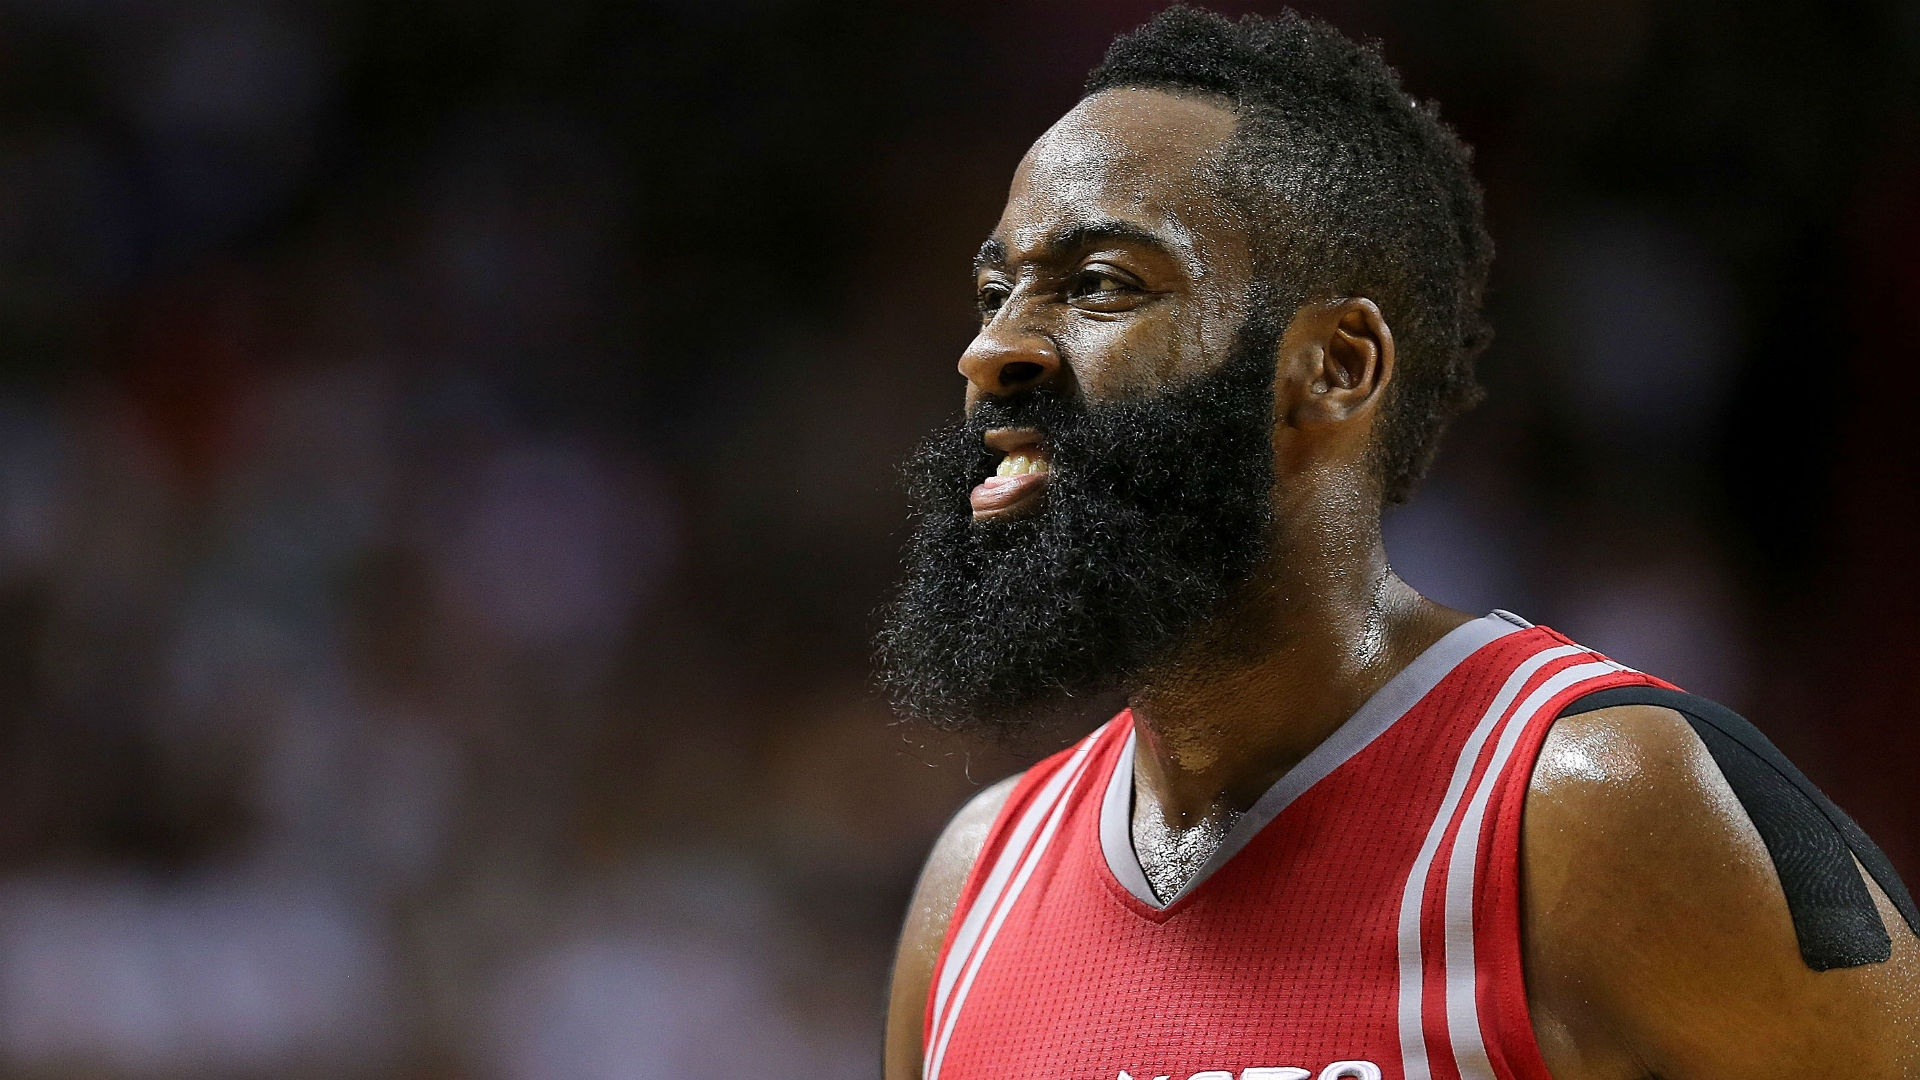no_mask: (890, 334, 1277, 658)
